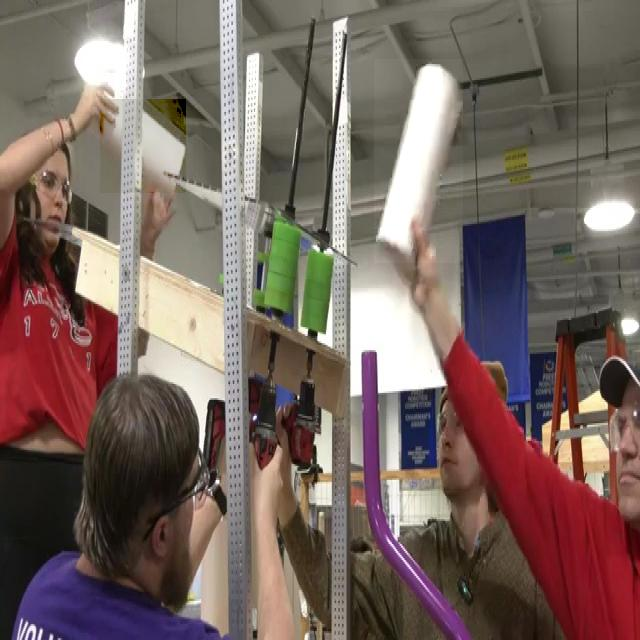Coral: (374, 59, 463, 263), (100, 99, 186, 193)
